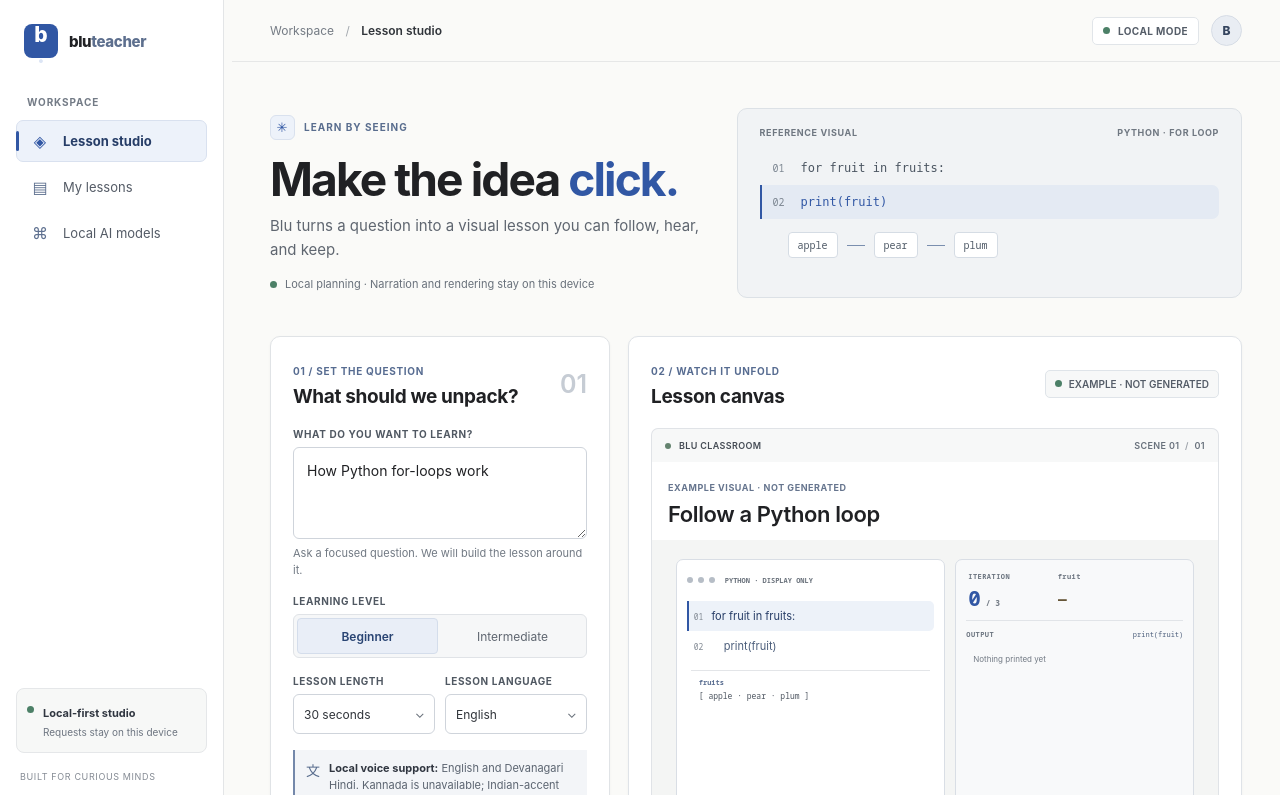
Scenario: lesson studio API integration › validates an empty topic in the browser without making a request
Clear the text box labelled "WHAT DO YOU WANT TO LEARN?" at (440, 493), box [293,447,587,539]
(page scrolled)
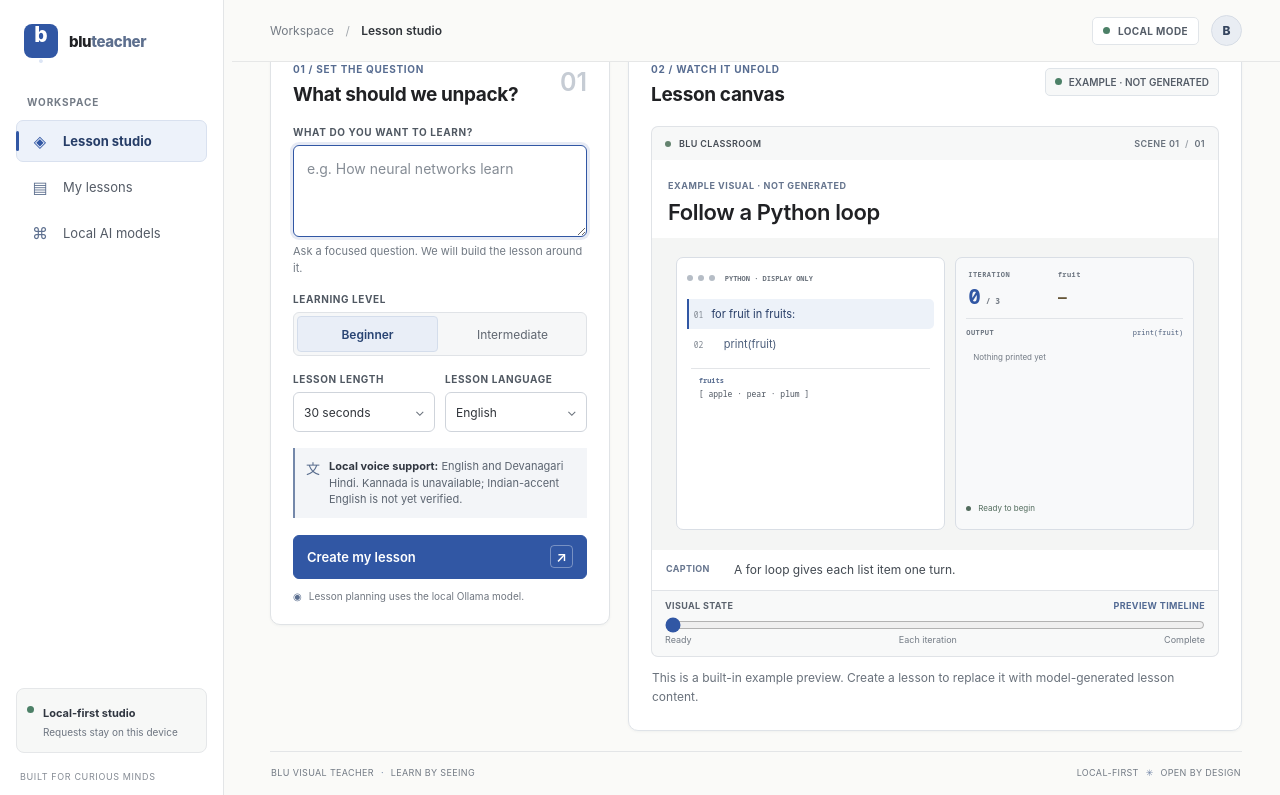
Click the button "Create my lesson ↗" at (361, 556), box [293,534,587,578]
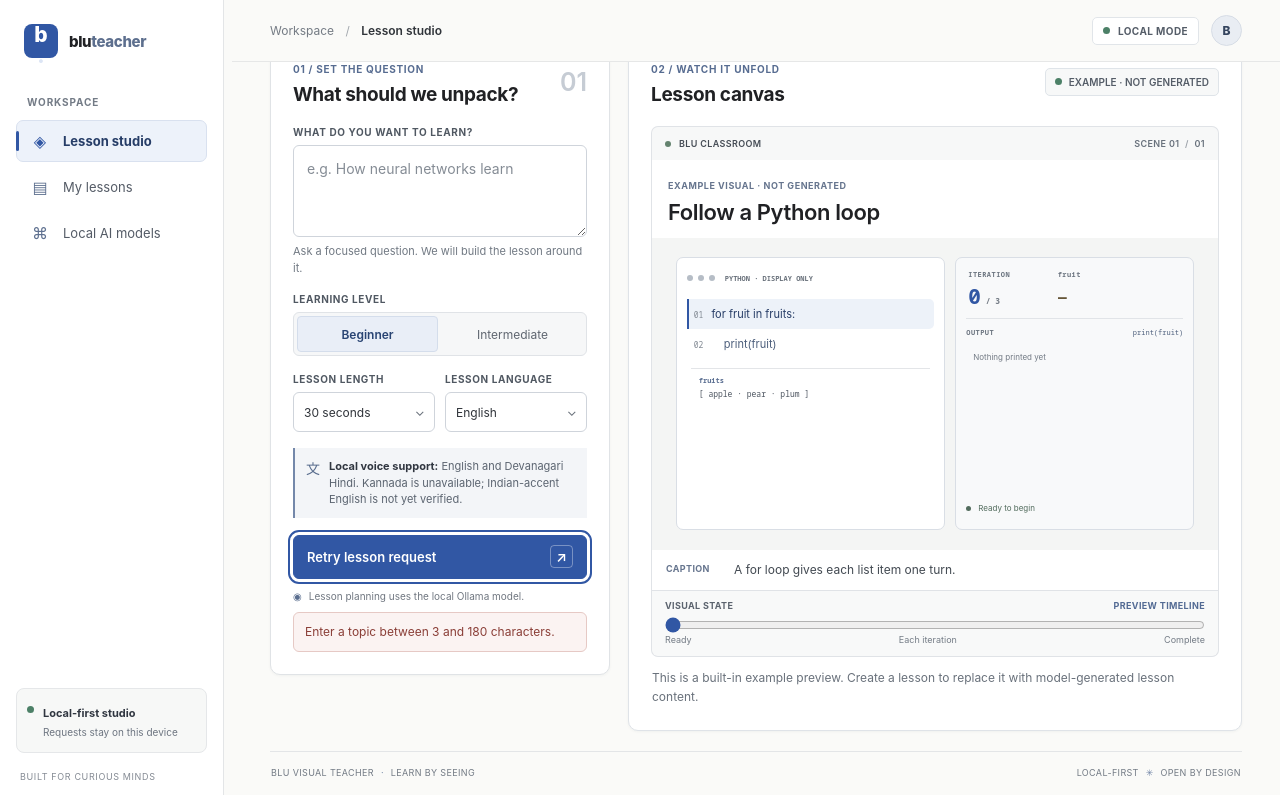
Now the message shows "between 3 and 180 characters", box [305,624,555,638]
